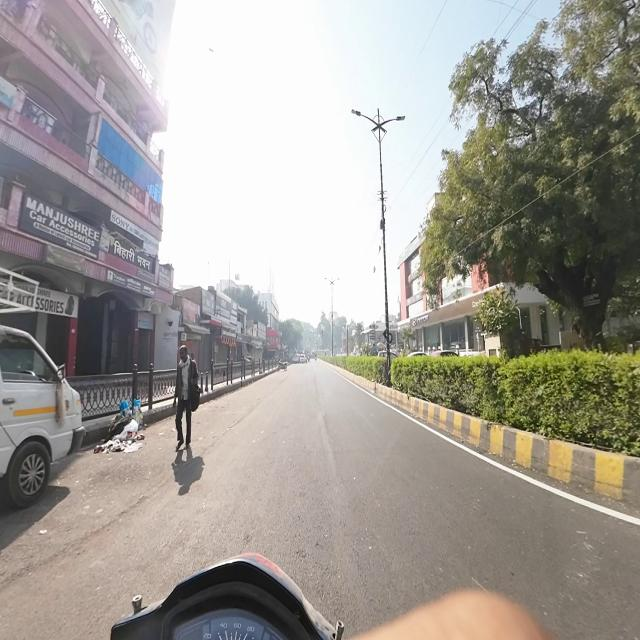Garbage: (112, 420, 139, 453)
